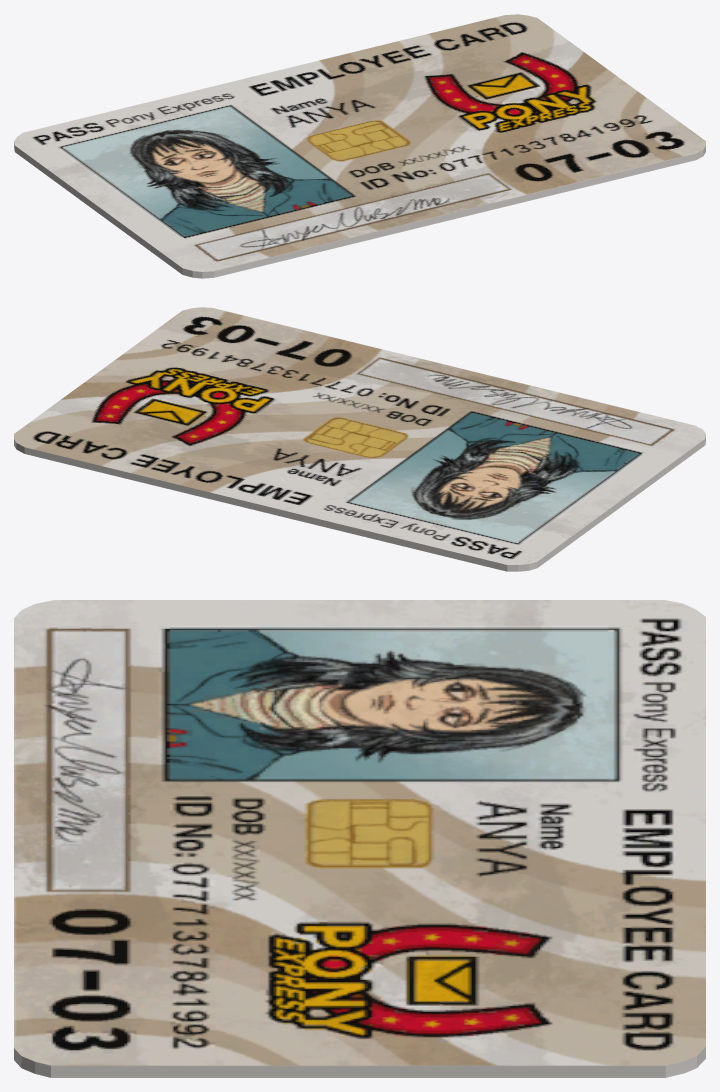
File: anyas_id_card_from_mouthwashing.glb
3 views of the same model, one above another, from view 1: azimuth 30°, elevation 25°; view 2: azimuth 150°, elevation 25°; view 3: azimuth 270°, elevation 25° (orthographic). The views are drawn at different scales.
Parts seen in each view (by area): view 1: Object_2; view 2: Object_2; view 3: Object_2.
Boxes of the visible parts, box(x1,y1,x2,y2) form: Object_2: box(14, 14, 705, 278); Object_2: box(14, 307, 705, 571); Object_2: box(14, 600, 705, 1077).
Size of the model in its own units: 0.1664 by 0.00204 by 0.1045.
1 material, 1 textured.
